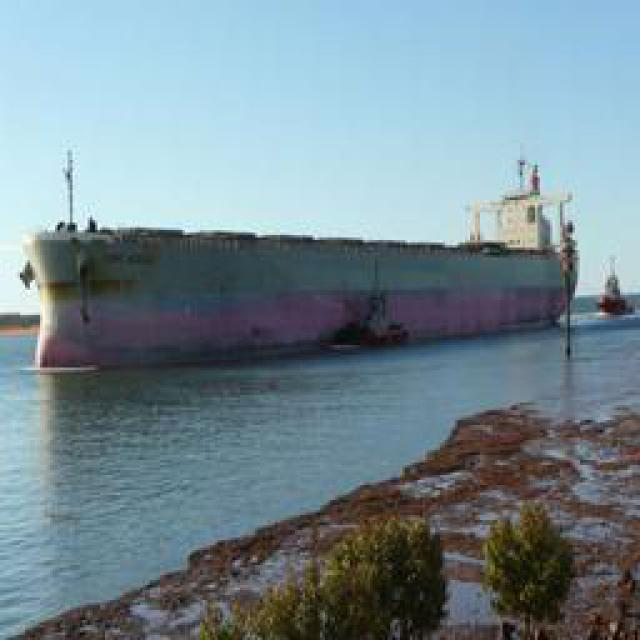Ship: (21, 179, 601, 364)
